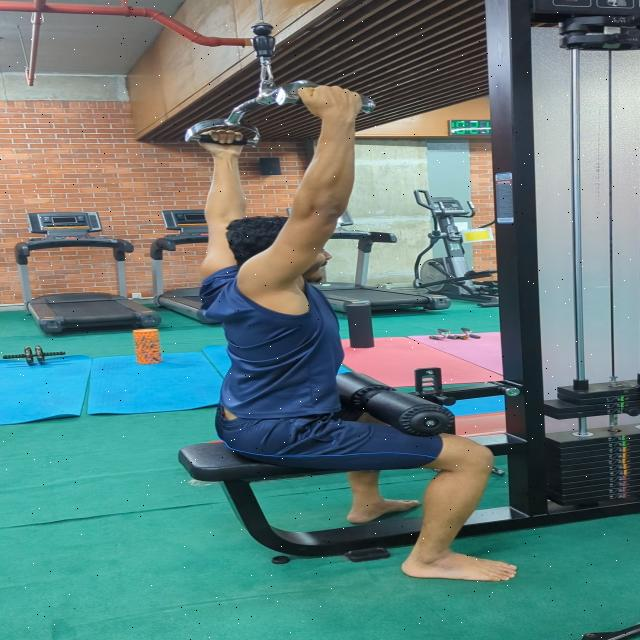Normal_LatPulldown: (148, 77, 563, 593)
